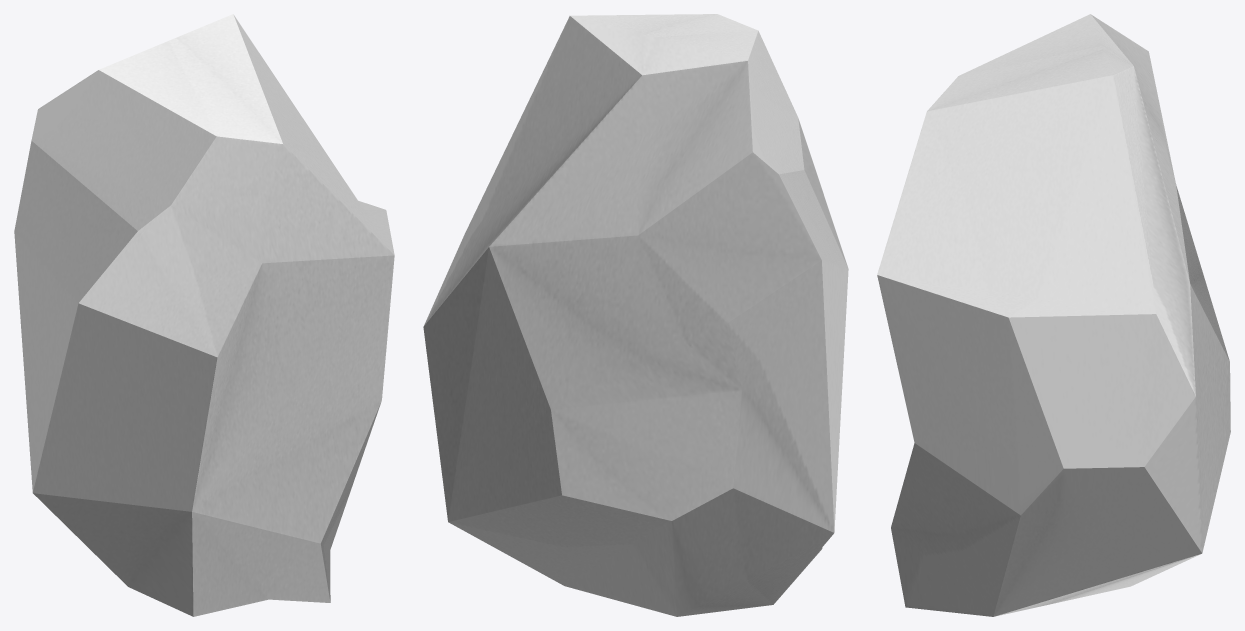
Rendered from Piedra3.fbx.
3 renders of one model, left to right at view 1: azimuth 30°, elevation 25°; view 2: azimuth 150°, elevation 25°; view 3: azimuth 270°, elevation 25°, orthographic. The views are drawn at different scales.
Parts seen in each view (by area): view 1: Piedra3; view 2: Piedra3; view 3: Piedra3.
Part boxes in pixels (box(x1,y1,x2,y2)): Piedra3: box(14, 14, 394, 616); Piedra3: box(423, 14, 848, 616); Piedra3: box(877, 14, 1230, 616).
Bounding box in the file's own units: 149 × 227 × 136.
1 material, 1 textured.
